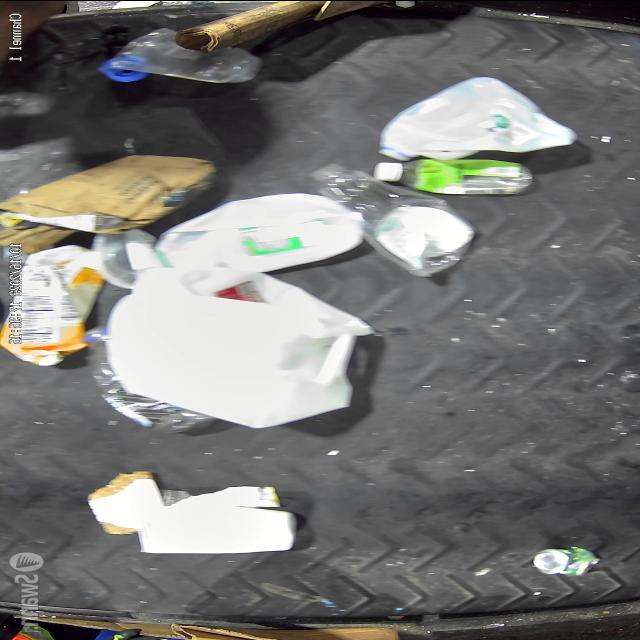can: (526, 546, 600, 578)
milk_jug: (115, 280, 372, 422)
plastic_bottle: (310, 168, 470, 270)
